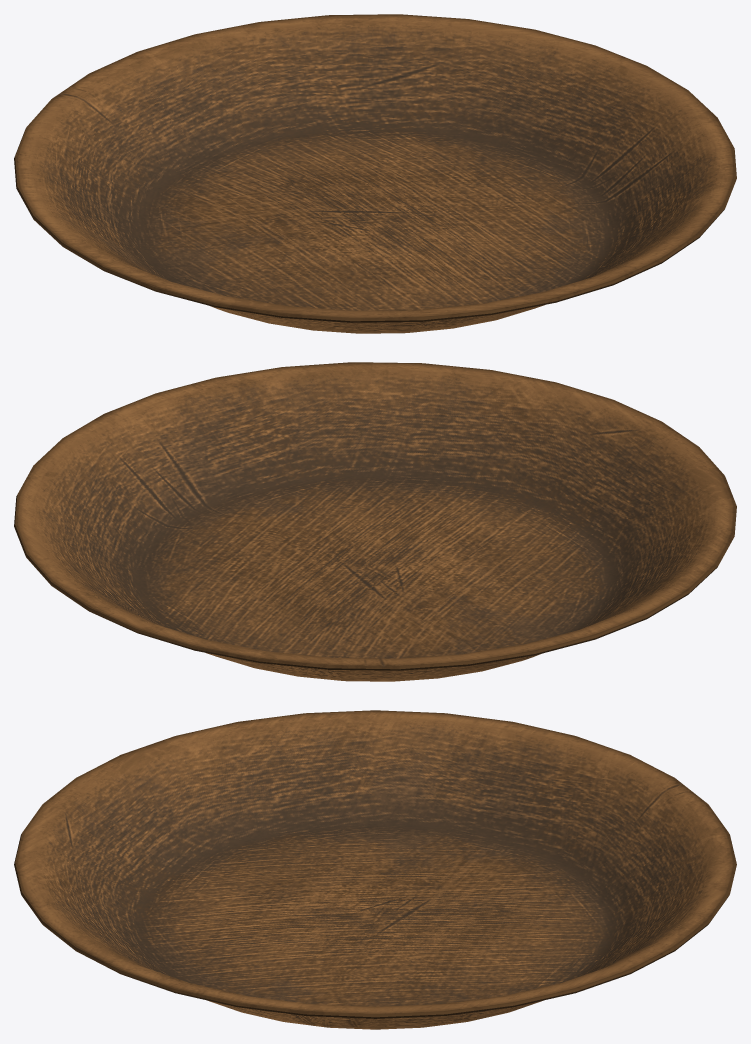
The model's file is Bowl_C.fbx.
3 views of the same model, one above another, from view 1: azimuth 30°, elevation 25°; view 2: azimuth 150°, elevation 25°; view 3: azimuth 270°, elevation 25° (orthographic).
Parts seen in each view (by area): view 1: Plate_01_low; view 2: Plate_01_low; view 3: Plate_01_low.
Boxes of the visible parts, <box> form: Plate_01_low: <box>14,14,736,333</box>; Plate_01_low: <box>14,362,736,681</box>; Plate_01_low: <box>14,710,736,1029</box>.
Size of the model in its own units: 141 by 14.39 by 141.
